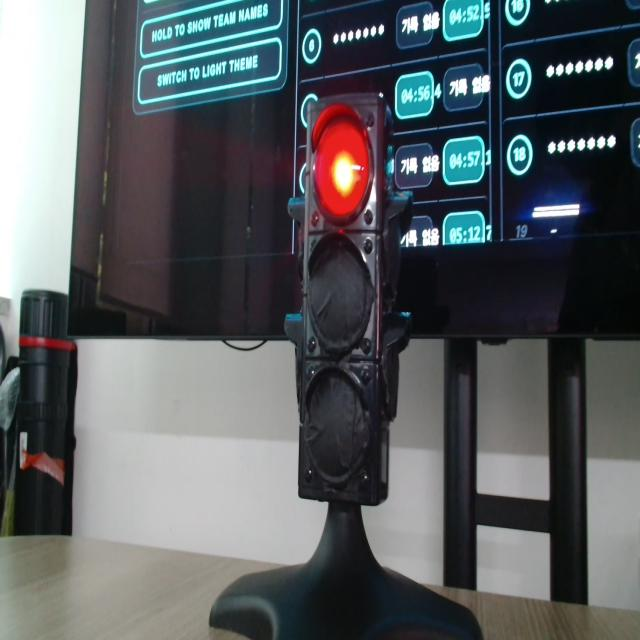red_light: (314, 106, 370, 218)
